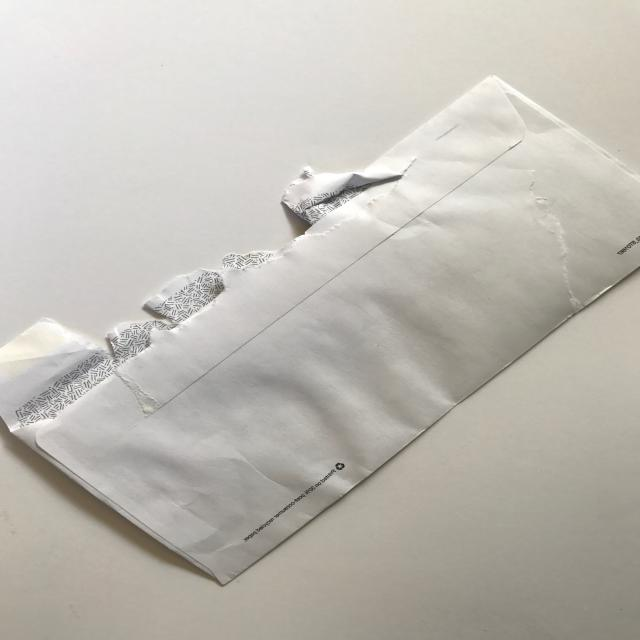paper: (0, 57, 640, 597)
